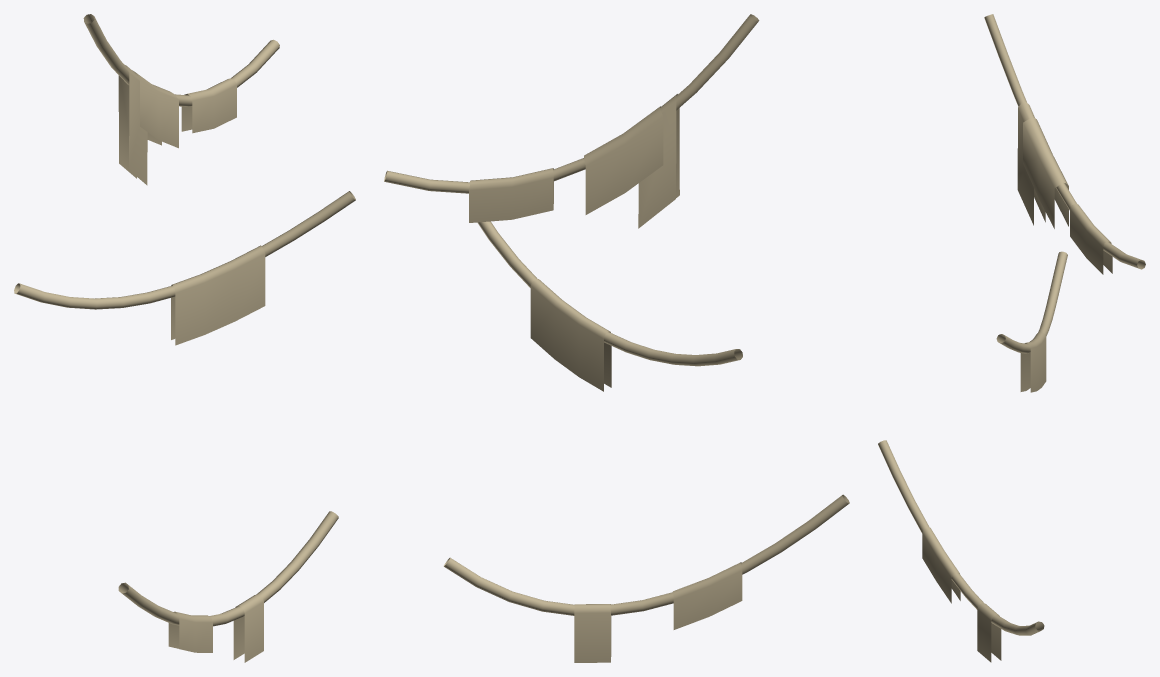
File: BuildingCluster_cloths04.fbx
The picture shows the model from 3 angles, left to right: view 1: azimuth 30°, elevation 25°; view 2: azimuth 150°, elevation 25°; view 3: azimuth 270°, elevation 25°; orthographic projection. The views are drawn at different scales.
Parts seen in each view (by area): view 1: rope.midMesh, rope.topMesh, rope.botMesh; view 2: rope.topMesh, rope.botMesh, rope.midMesh; view 3: rope.topMesh, rope.botMesh, rope.midMesh.
Boxes of the visible parts, box(x1,y1,x2,y2) form: rope.midMesh: box(14, 191, 355, 345); rope.topMesh: box(83, 14, 279, 185); rope.botMesh: box(118, 511, 338, 662); rope.topMesh: box(384, 14, 759, 228); rope.botMesh: box(443, 494, 849, 662); rope.midMesh: box(477, 221, 742, 391); rope.topMesh: box(984, 14, 1145, 274); rope.botMesh: box(878, 440, 1044, 662); rope.midMesh: box(996, 251, 1067, 392).
Bounding box in the file's own units: 479 × 1001 × 421.
